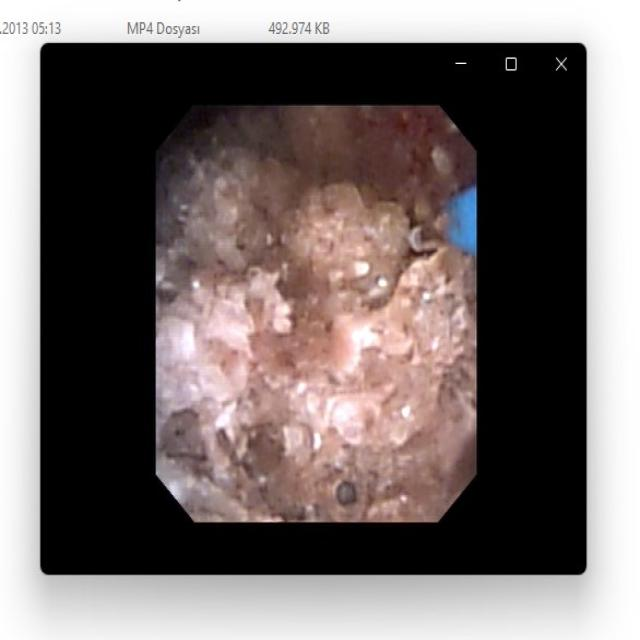stone: (161, 112, 469, 515)
